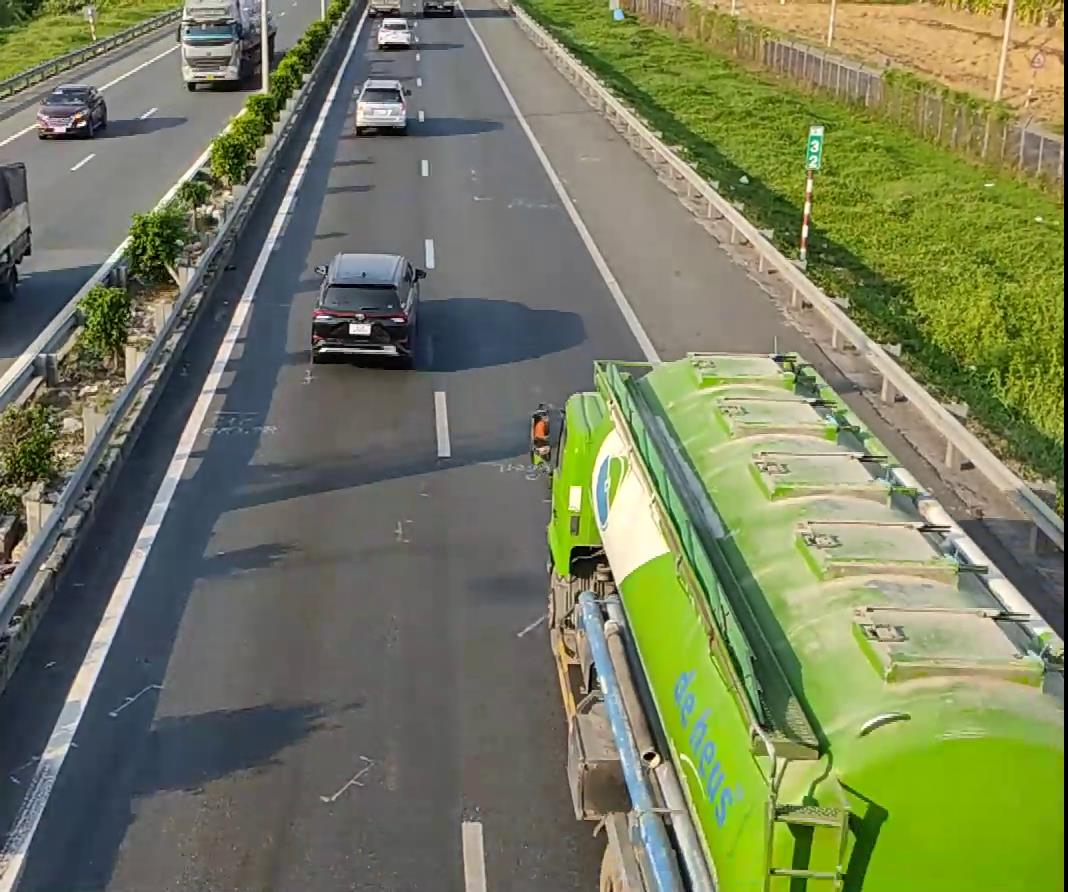car: (309, 251, 427, 364), (36, 82, 107, 139)
container: (540, 355, 1036, 885)
